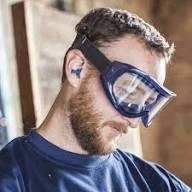safety_goggles: (56, 48, 191, 114)
